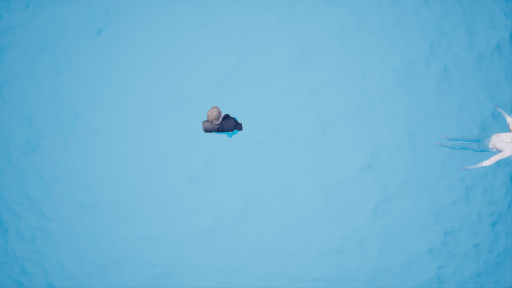person: (439, 106, 512, 171), (197, 101, 246, 141)
